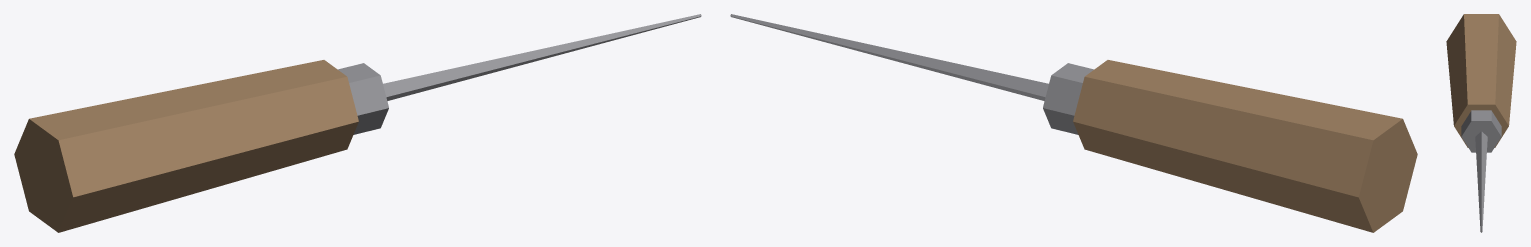
Rendered from prop-punch-awl-sv1.fbx.
The picture shows the model from 3 angles, left to right: view 1: azimuth 30°, elevation 25°; view 2: azimuth 150°, elevation 25°; view 3: azimuth 270°, elevation 25°; orthographic projection. The views are drawn at different scales.
Parts seen in each view (by area): view 1: prop-punch-awl-sv1; view 2: prop-punch-awl-sv1; view 3: prop-punch-awl-sv1.
Part boxes in pixels (x1=…): prop-punch-awl-sv1: x1=14, y1=14, x2=701, y2=232; prop-punch-awl-sv1: x1=730, y1=14, x2=1417, y2=232; prop-punch-awl-sv1: x1=1446, y1=14, x2=1516, y2=232.
Size of the model in its own units: 18 by 2.42 by 2.8.
